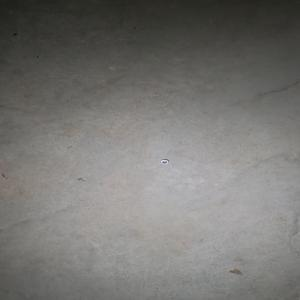Nut: (160, 158, 169, 164)
